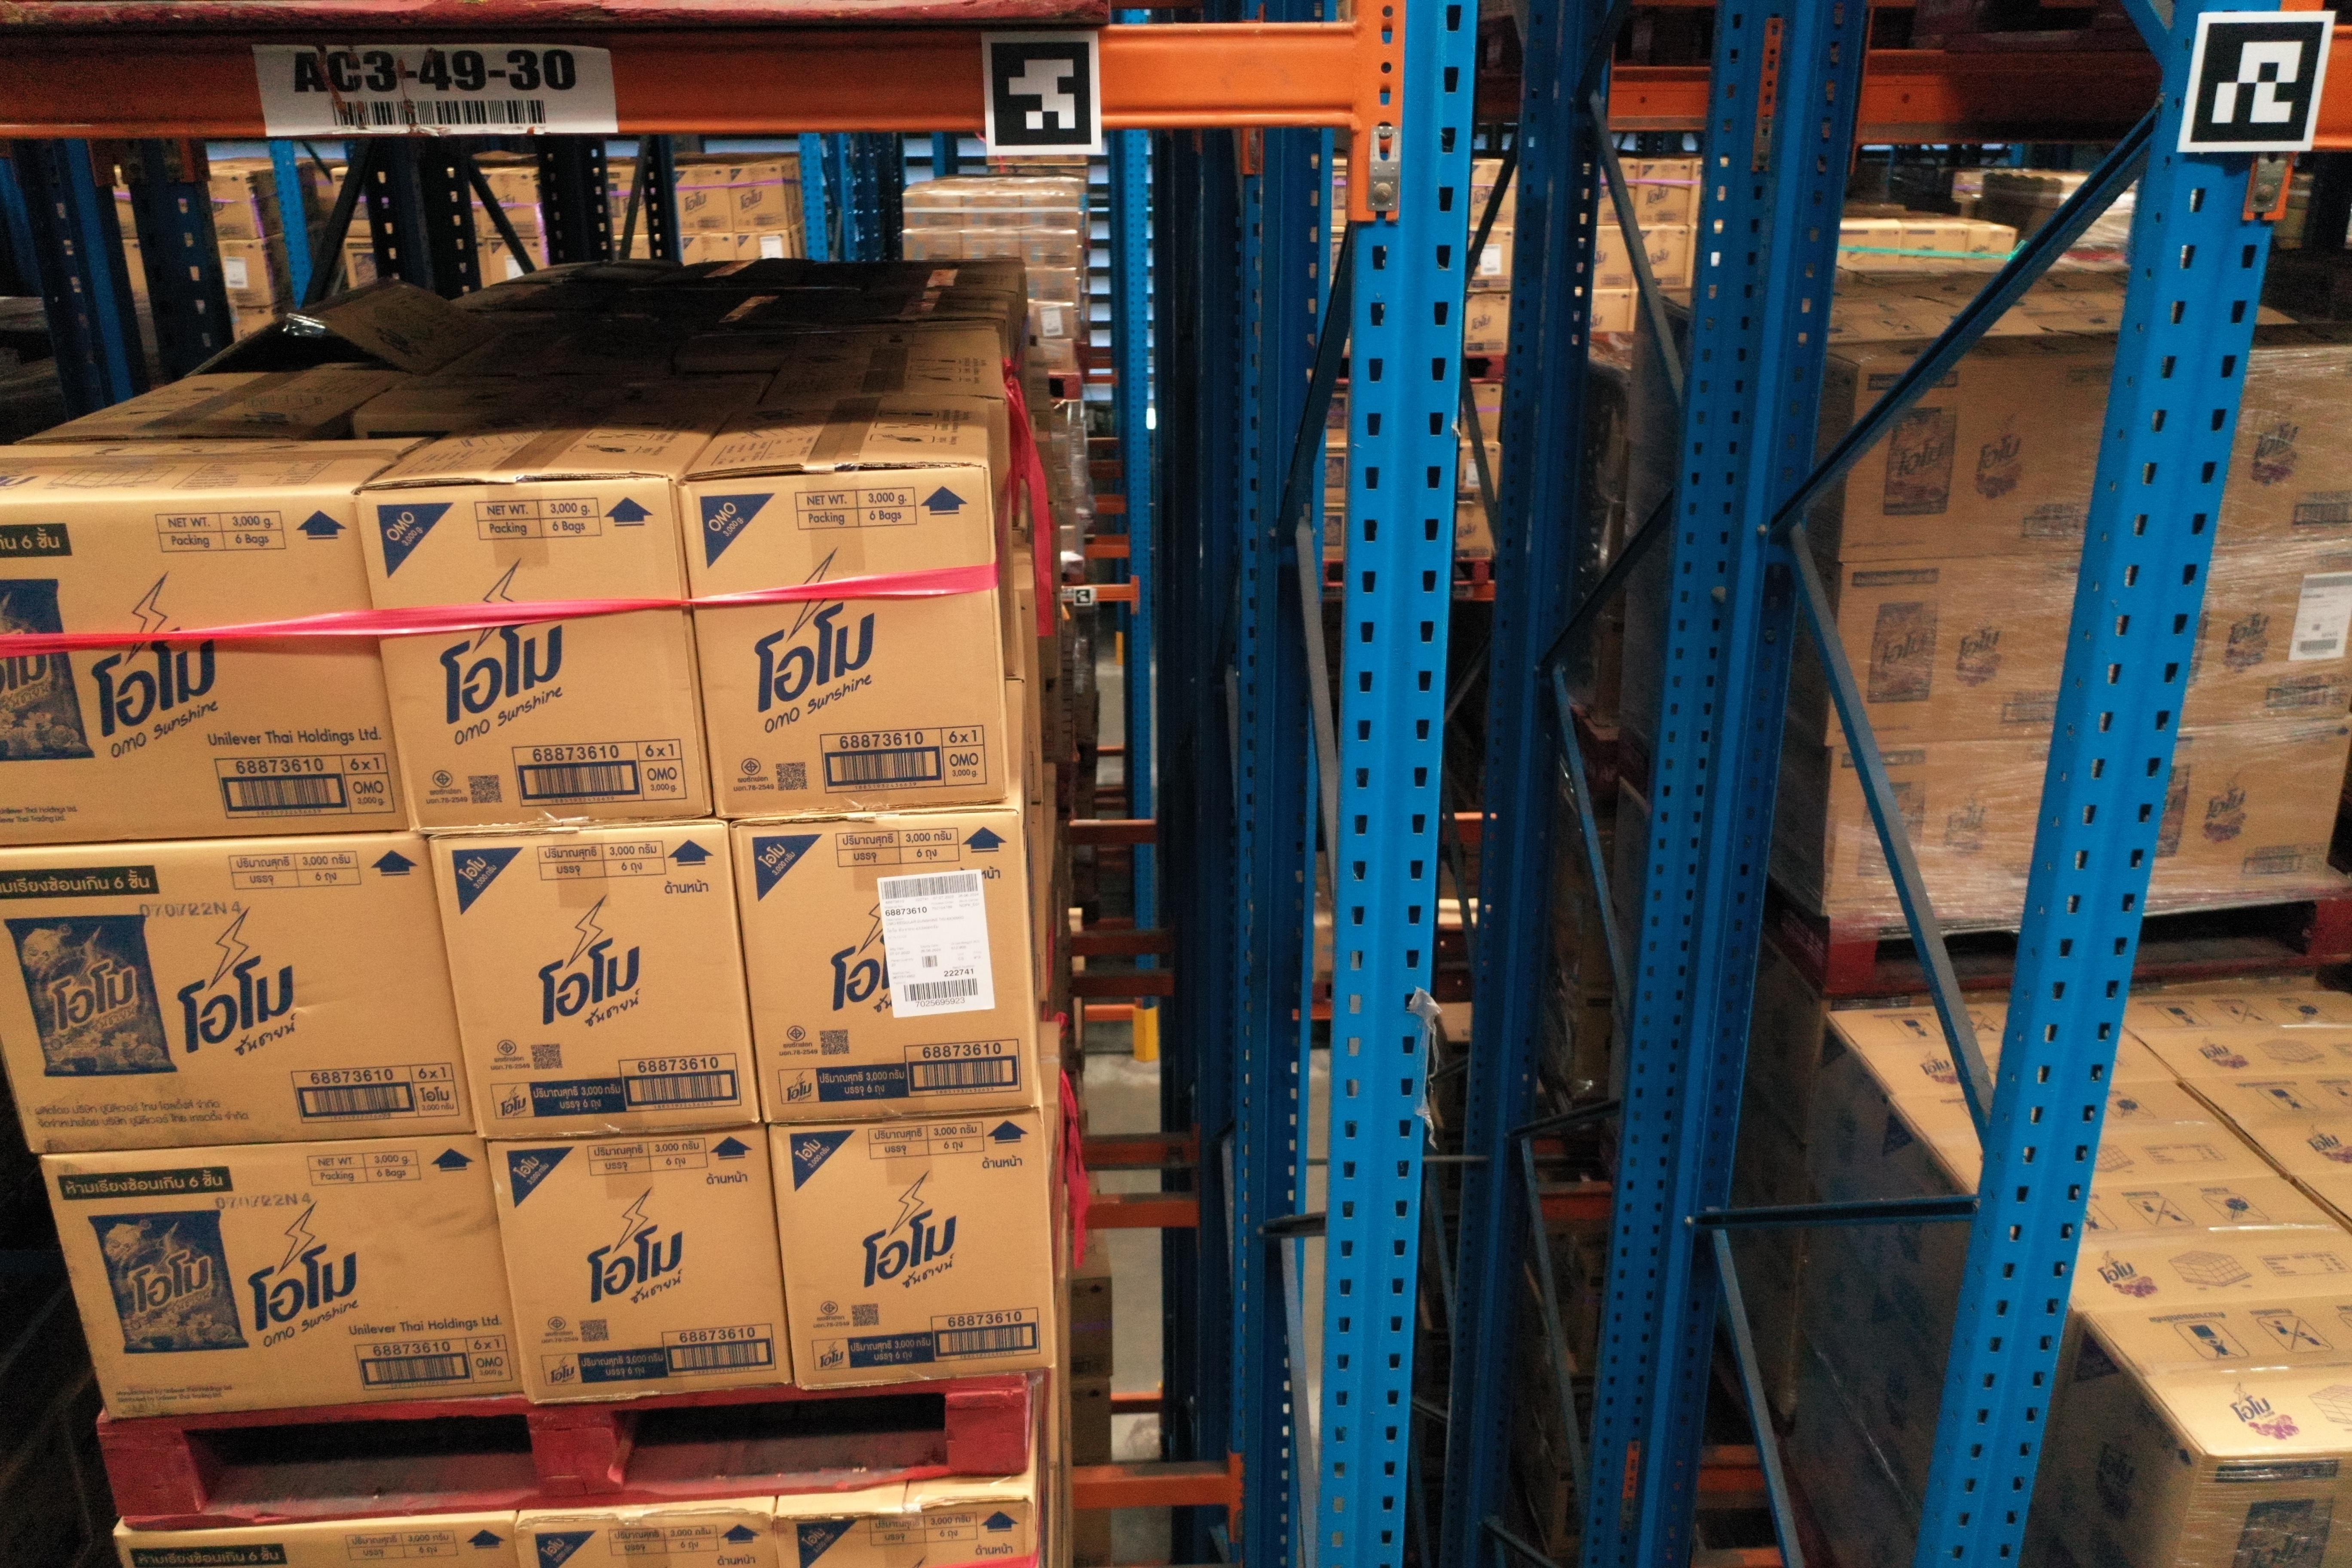-: (0, 833, 478, 1153), (0, 492, 413, 847), (40, 1130, 521, 1421), (355, 472, 710, 833), (677, 464, 1004, 819), (427, 822, 759, 1137), (735, 812, 1039, 1123), (486, 1123, 793, 1402), (766, 1111, 1057, 1388), (2161, 1449, 2352, 1568), (115, 1524, 521, 1568), (779, 1501, 1036, 1568), (518, 1508, 780, 1568)
box: (1836, 355, 2117, 563), (1825, 549, 2089, 752), (1825, 737, 2054, 924), (2147, 717, 2352, 898), (2173, 537, 2352, 737), (2212, 348, 2352, 558)
